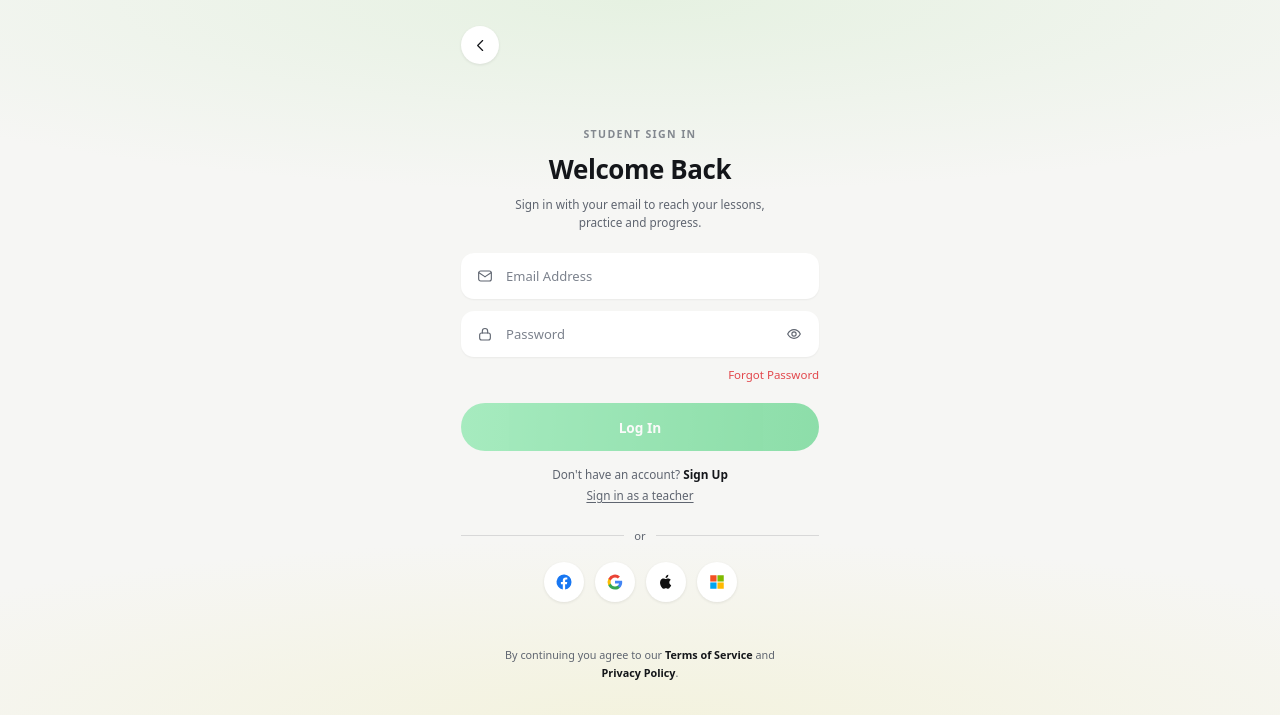
it: student login › shows the server message on bad credentials, without guessing
Check: the text "Student sign in" is shown, box top-left (583, 127), bottom-right (697, 141)
In the field labelled "Email Address": (654, 276) top-left (504, 254), bottom-right (803, 298), type "nobody@example.local"
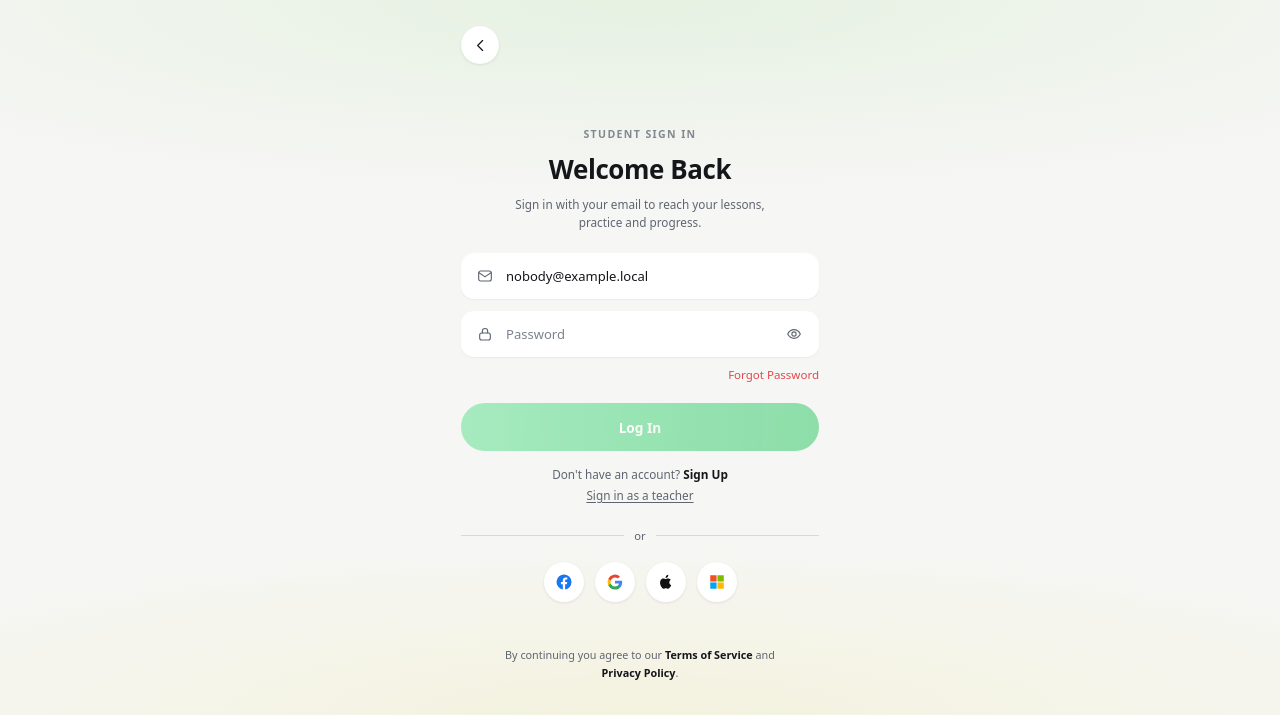
In the password field labelled "Password": (654, 334) top-left (504, 312), bottom-right (803, 356), type "wrong-password"
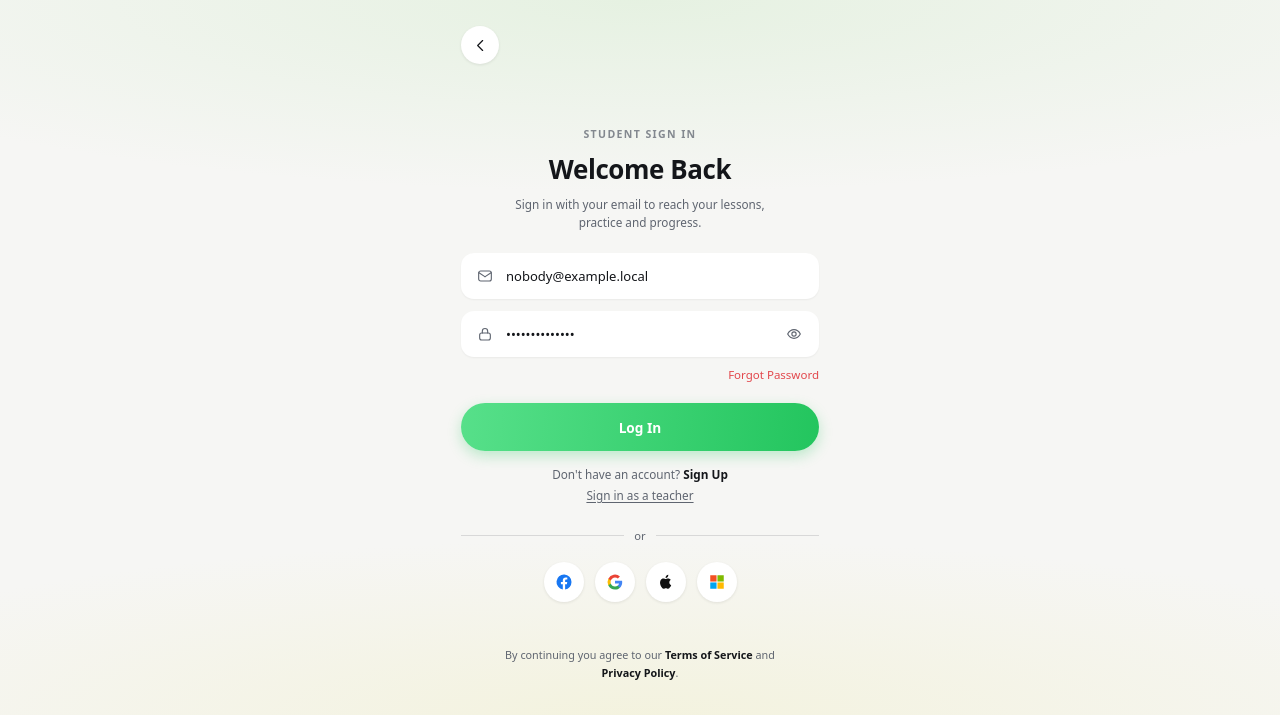
Click the button "Log In": (640, 427) top-left (461, 403), bottom-right (819, 451)
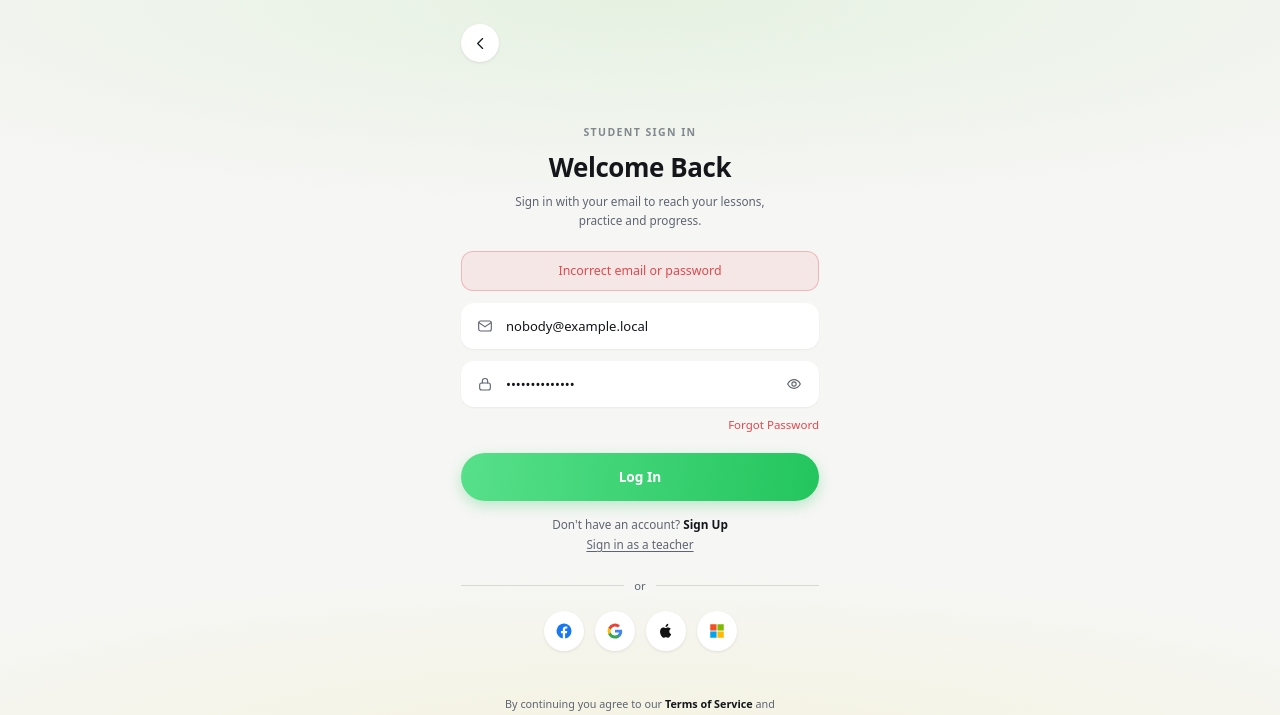
Check: the message reads "Incorrect email or password", box top-left (558, 262), bottom-right (722, 279)
